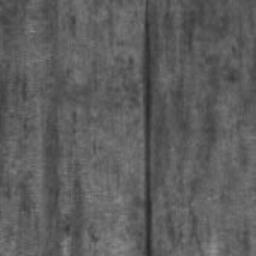Scratches: (141, 0, 154, 256)
